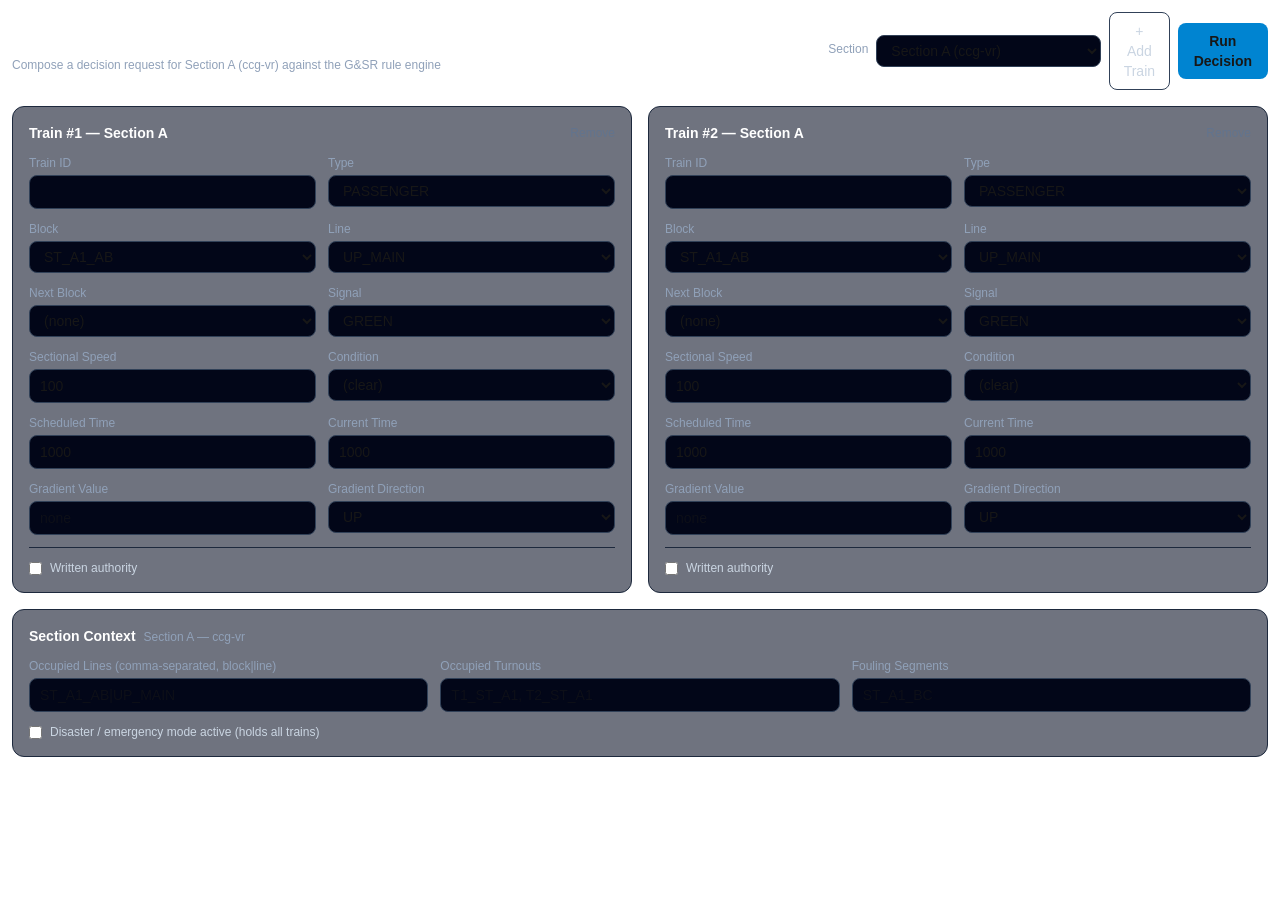
Test case: DecisionPanel › shows an error banner on rejection then clears it on the next run
This screenshot has width=1280, height=900.
Expected: the heading "Train #1 — Section A" is shown, 29,123 -> 168,143
Click the button "Run Decision" at (1223, 51), box 1178,23 -> 1268,79
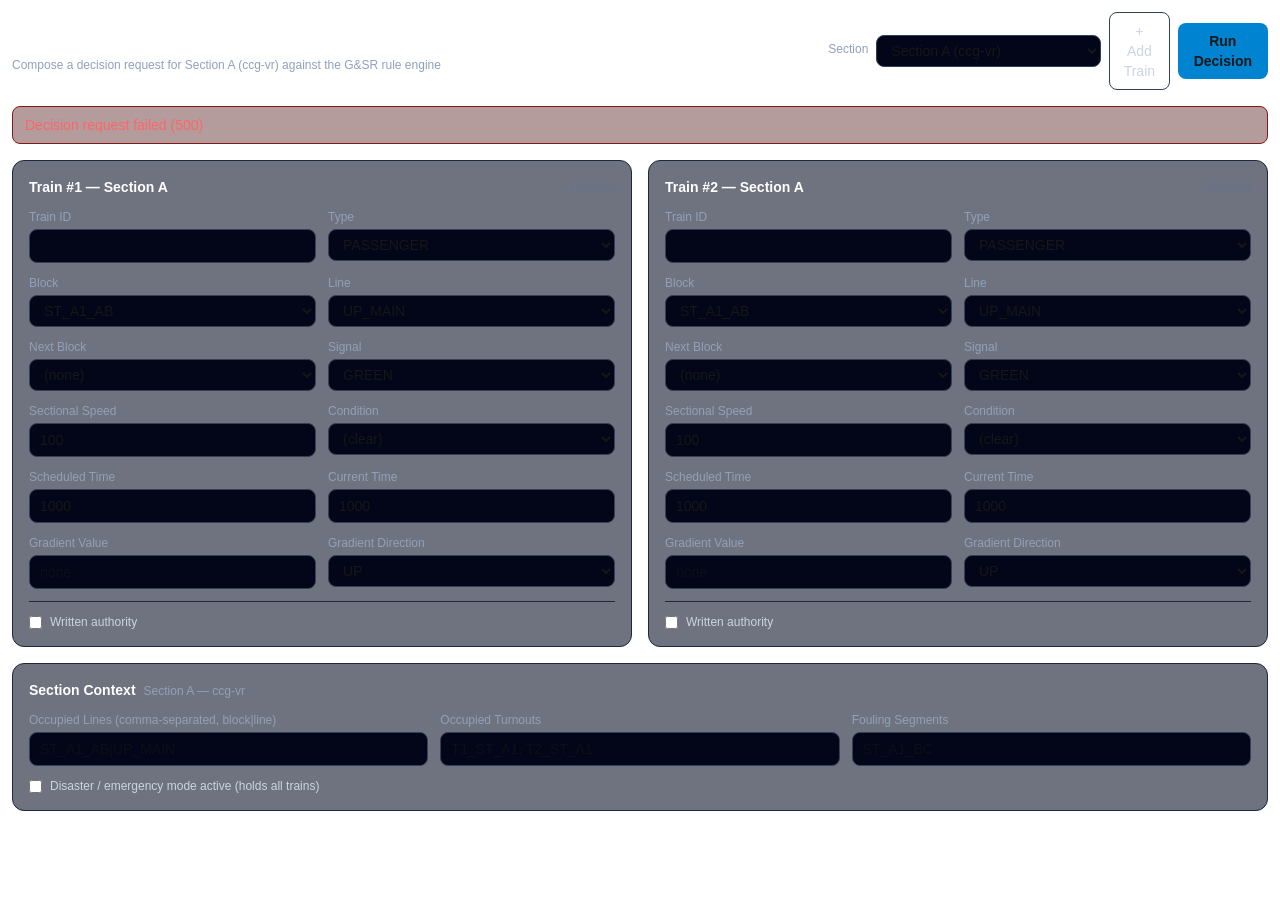
Expected: the text "Decision request failed (500)" is shown, 12,106 -> 1268,144
Click the button "Run Decision" at (1223, 51), box 1178,23 -> 1268,79
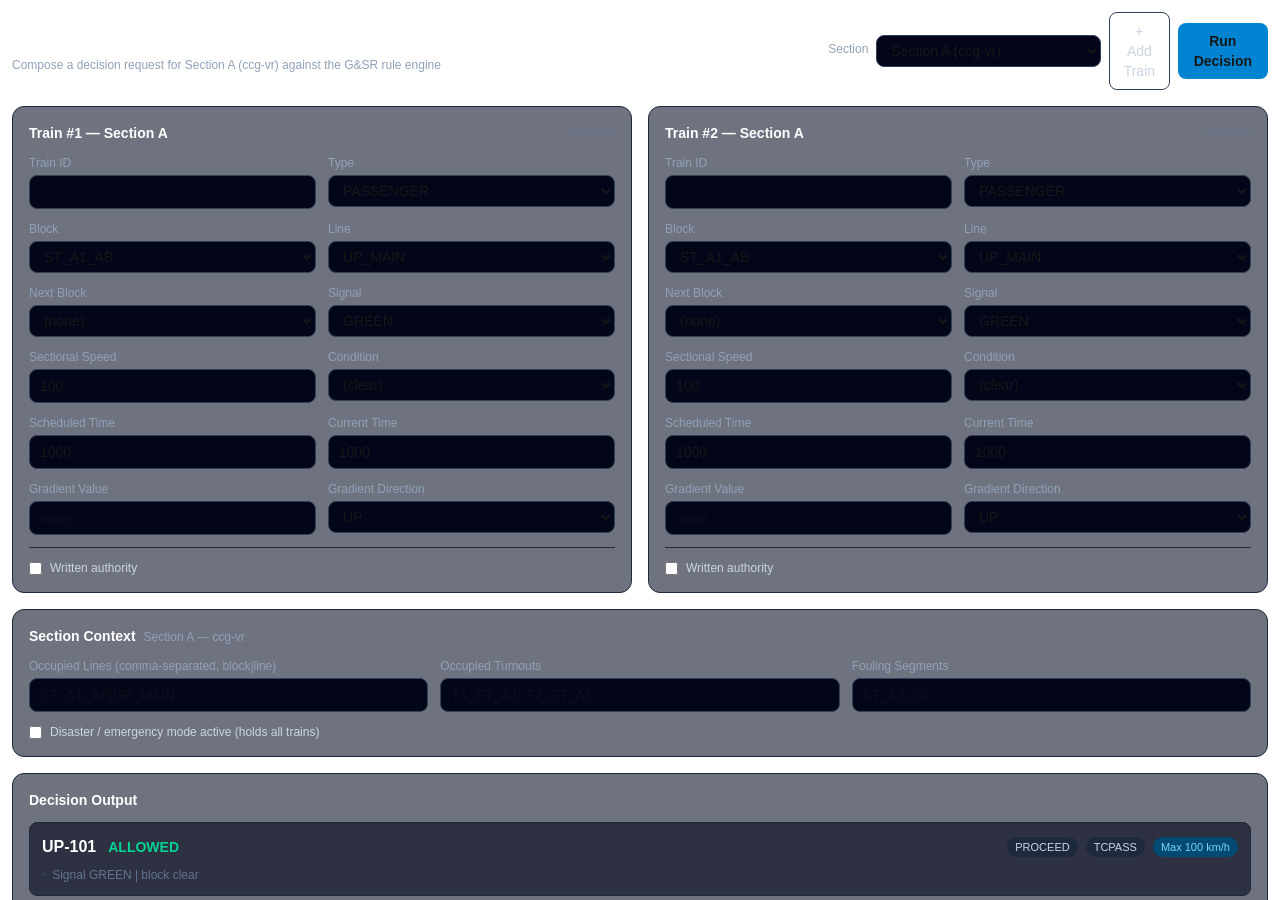
Expected: the heading "Decision Output" is shown, 29,792 -> 137,808
Expected: the text "Decision request failed (500)" is gone
